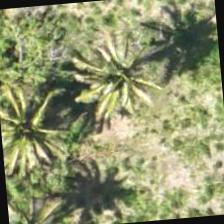Kelapa_Sawit: (5, 169, 81, 223)
